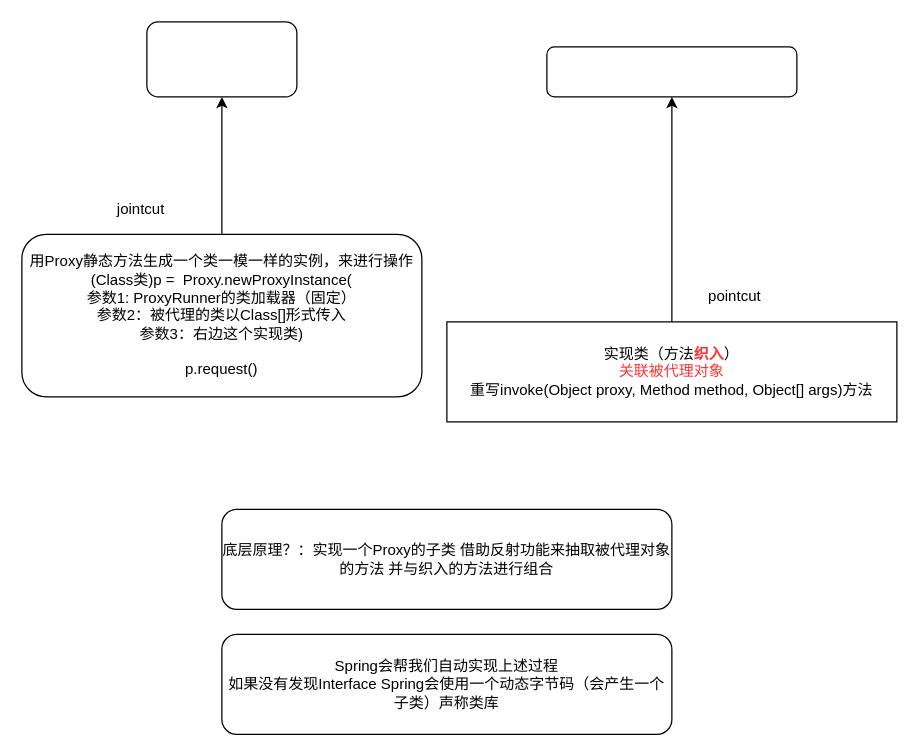
This 919x756 diagram has some shape labels left out. Here are the shapes that lost their labels. From the top down, the centre of each, then its label:
At point (221, 59): "reflect.proxy类".
At point (671, 71): "invocationHandler接口".
